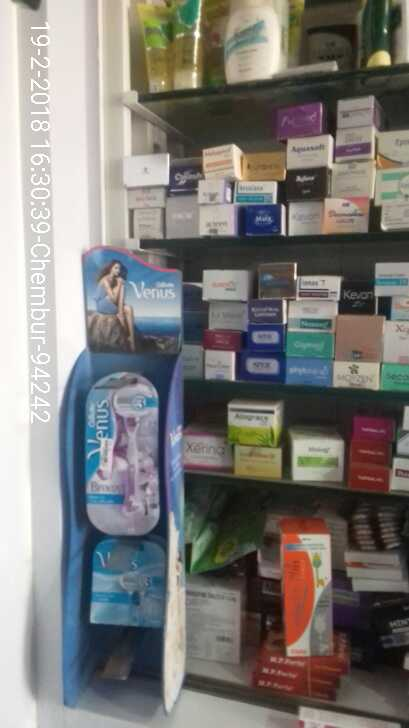venus: (77, 373, 163, 533), (83, 537, 166, 625)
